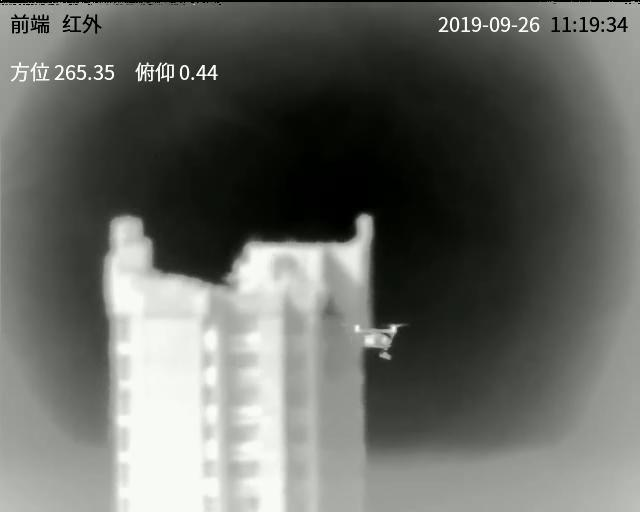uav: (350, 319, 408, 365)
